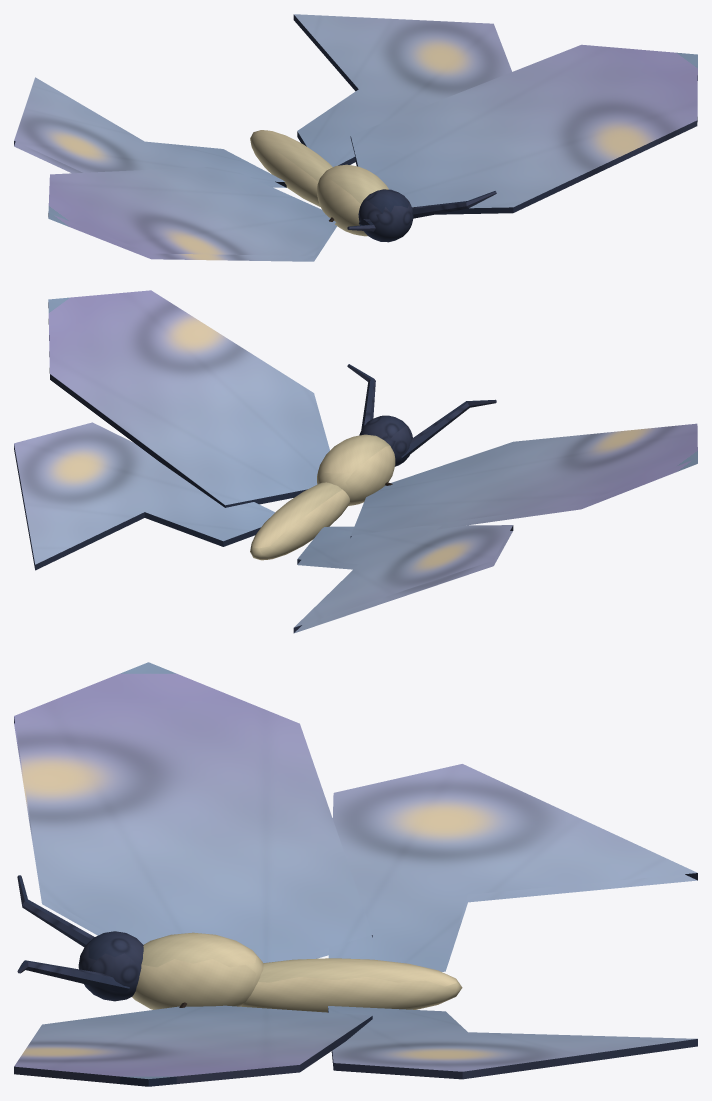
File: forest_moon_moth.glb
3 views of the same model, one above another, from view 1: azimuth 30°, elevation 25°; view 2: azimuth 150°, elevation 25°; view 3: azimuth 270°, elevation 25° (orthographic). The views are drawn at different scales.
Parts seen in each view (by area): view 1: Painted butterfly wing.010, Painted butterfly wing.008, Painted butterfly wing.011, Painted butterfly wing.009, Velvet insect abdomen.002, Velvet insect thorax.002, Insect head.002, Curled butterfly antenna.005; view 2: Painted butterfly wing.010, Painted butterfly wing.008, Painted butterfly wing.011, Painted butterfly wing.009, Velvet insect abdomen.002, Velvet insect thorax.002, Insect head.002, Curled butterfly antenna.004, Curled butterfly antenna.005; view 3: Painted butterfly wing.008, Painted butterfly wing.009, Painted butterfly wing.010, Painted butterfly wing.011, Velvet insect abdomen.002, Velvet insect thorax.002, Insect head.002, Curled butterfly antenna.005, Curled butterfly antenna.004.
Boxes of the visible parts, x1,y1,x2,y2 form: Painted butterfly wing.010: (350, 44, 697, 214); Painted butterfly wing.008: (48, 166, 336, 261); Painted butterfly wing.011: (293, 14, 511, 166); Painted butterfly wing.009: (14, 77, 286, 187); Velvet insect abdomen.002: (250, 130, 332, 206); Velvet insect thorax.002: (317, 164, 388, 236); Insect head.002: (358, 189, 413, 242); Curled butterfly antenna.005: (412, 191, 496, 218); Painted butterfly wing.010: (48, 290, 329, 507); Painted butterfly wing.008: (350, 423, 697, 537); Painted butterfly wing.011: (14, 422, 274, 570); Painted butterfly wing.009: (293, 525, 513, 633); Velvet insect abdomen.002: (250, 482, 350, 560); Velvet insect thorax.002: (317, 434, 395, 505); Insect head.002: (359, 415, 412, 466); Curled butterfly antenna.004: (401, 399, 496, 460); Curled butterfly antenna.005: (347, 364, 375, 429); Painted butterfly wing.008: (14, 662, 372, 962); Painted butterfly wing.009: (328, 764, 697, 971); Painted butterfly wing.010: (14, 1005, 372, 1086); Painted butterfly wing.011: (328, 1006, 697, 1079); Velvet insect abdomen.002: (241, 958, 462, 1012); Velvet insect thorax.002: (132, 932, 263, 1009); Insect head.002: (78, 931, 143, 1001); Curled butterfly antenna.005: (17, 960, 129, 993); Curled butterfly antenna.004: (17, 875, 94, 947).
Size of the model in its own units: 1.76 by 0.2822 by 1.22.
Materials: 4 (4 with a texture image).
